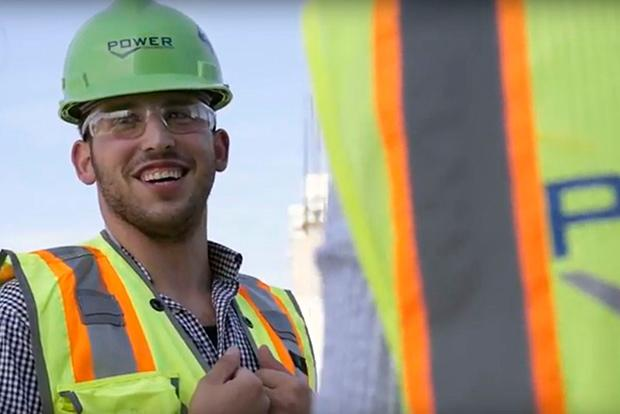helmet: (59, 3, 235, 119)
